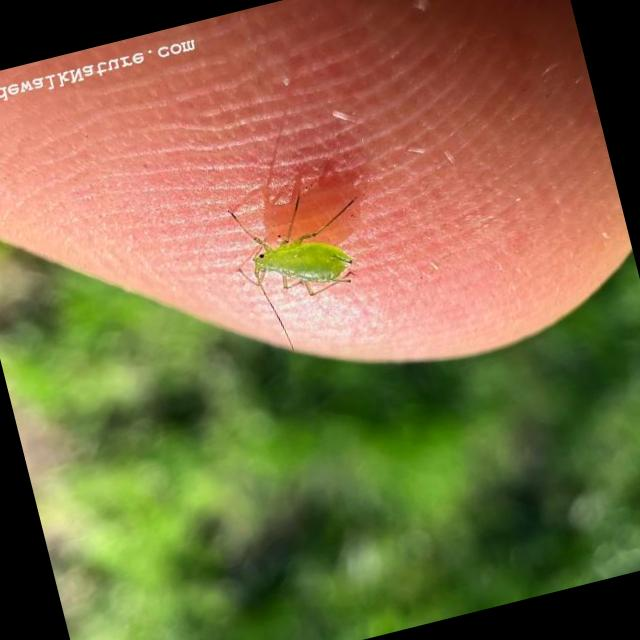aphid: (230, 197, 354, 338)
